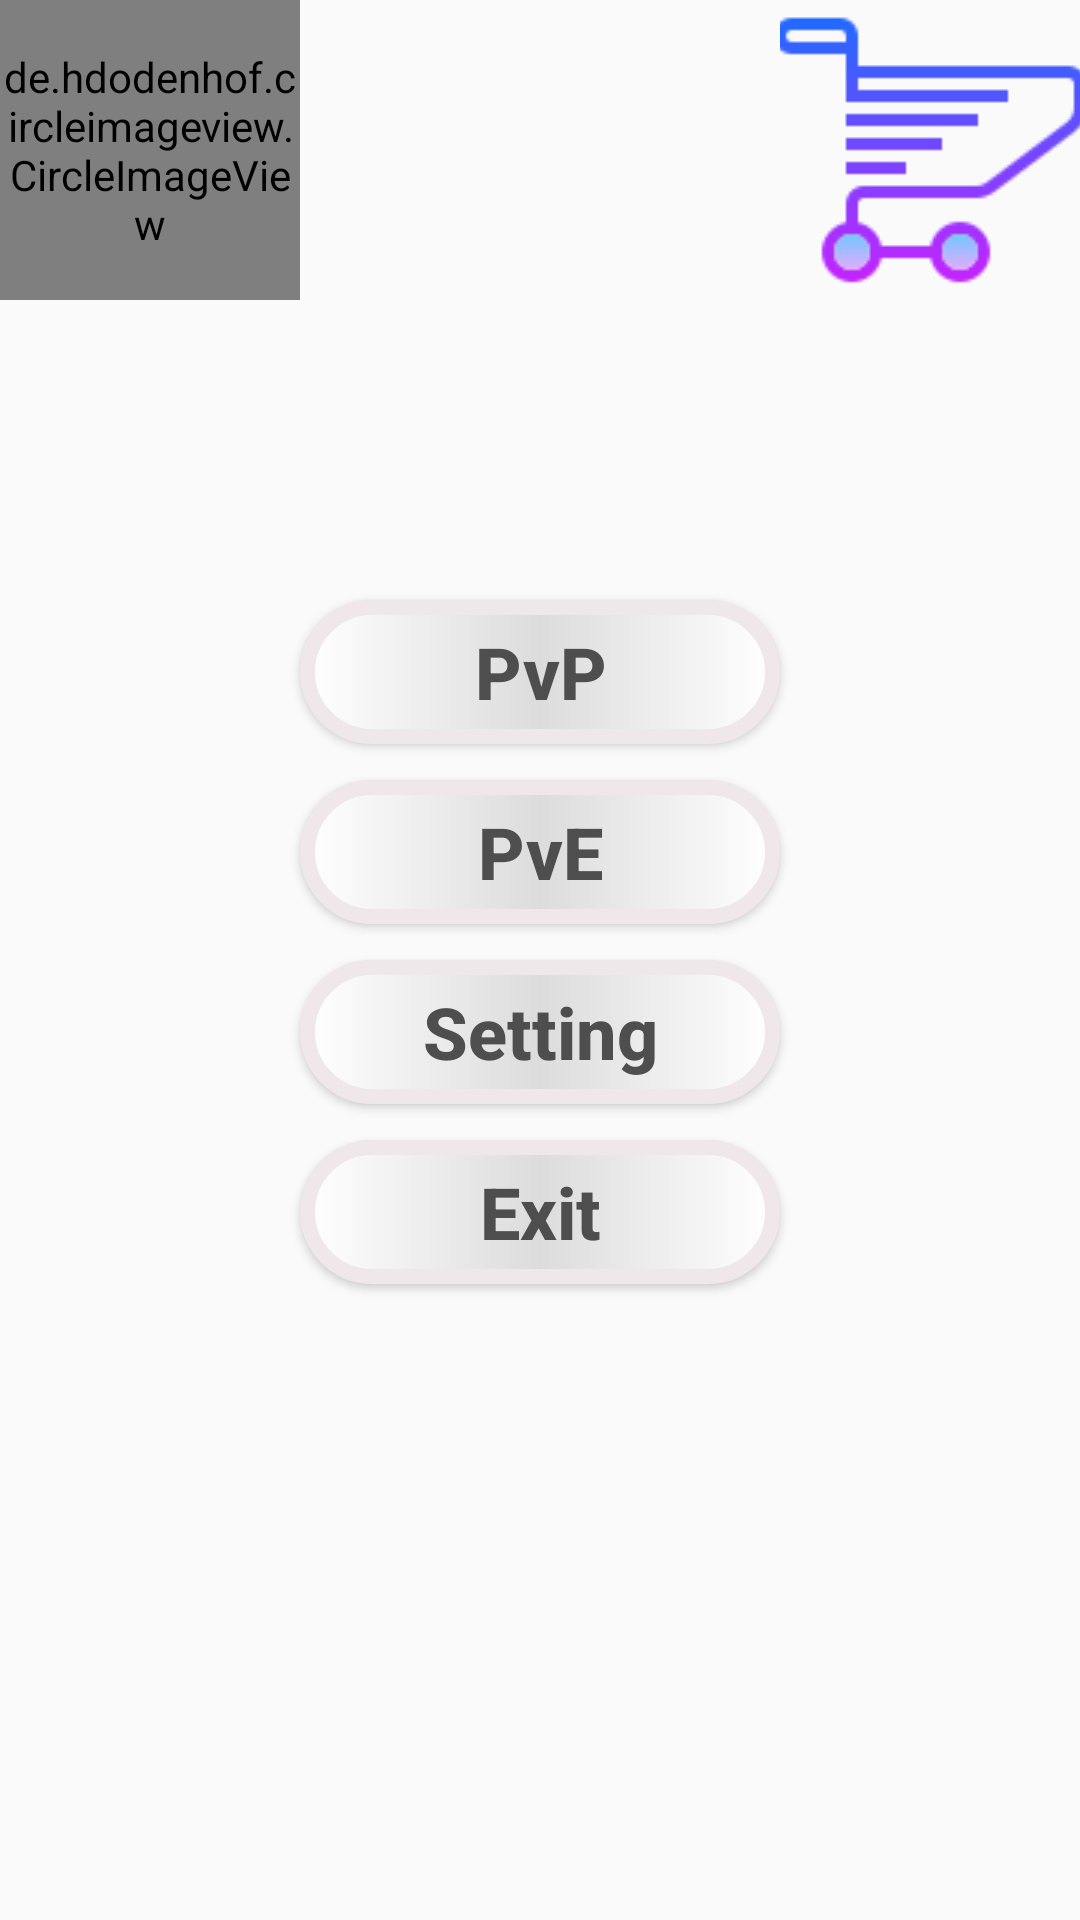

Screen size 1080w x 1920h. Icon name, then its box in pixels as Rect(x1, y1, x2, y2):
store: Rect(780, 17, 1080, 283)
